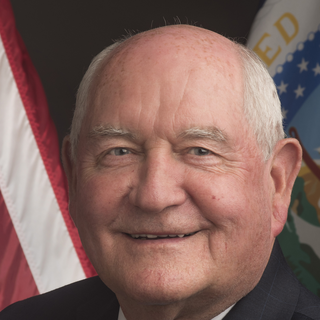eye: (175, 140, 224, 161), (96, 143, 139, 160)
